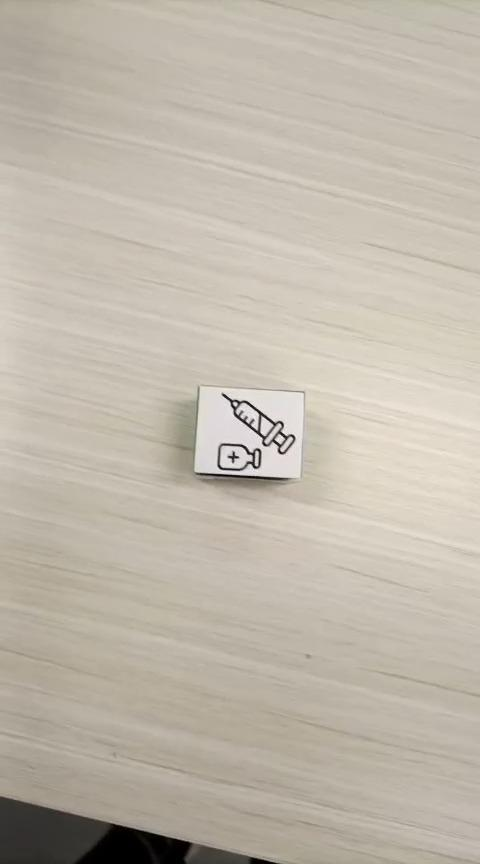antiseptic cream: (192, 383, 305, 481)
